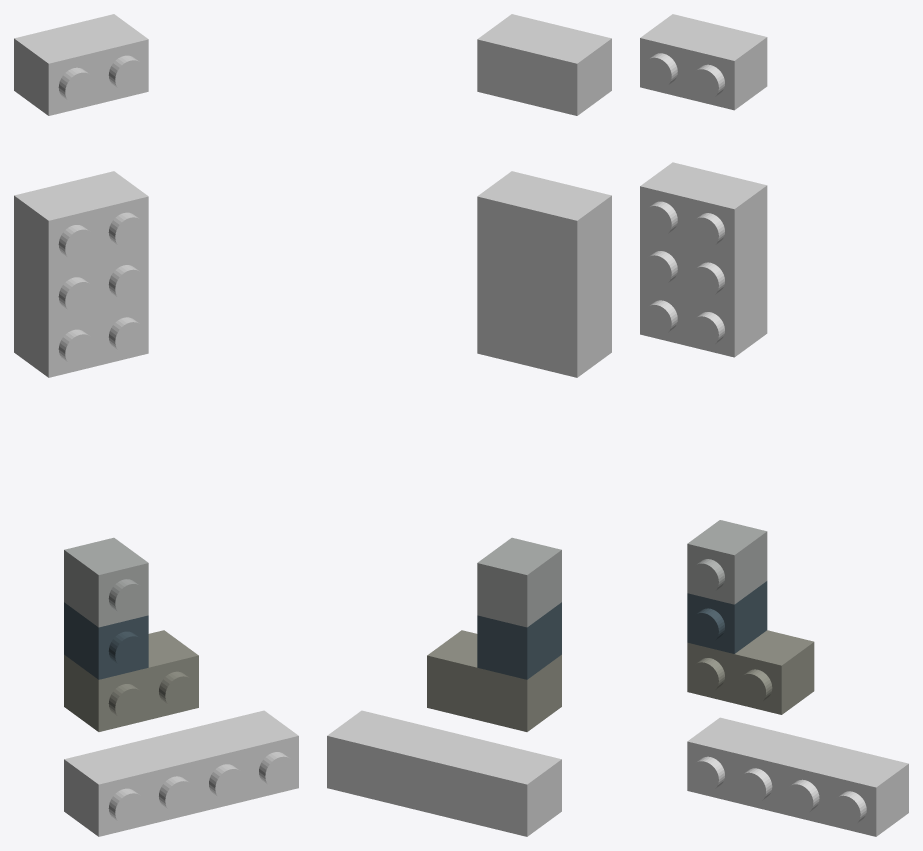
The model's file is current.glb.
The picture shows the model from 3 angles, left to right: view 1: azimuth 30°, elevation 25°; view 2: azimuth 150°, elevation 25°; view 3: azimuth 330°, elevation 25°; orthographic projection. The views are drawn at different scales.
Parts seen in each view (by area): view 1: world; view 2: world; view 3: world.
Boxes of the visible parts, x1,y1,x2,y2 form: world: [14, 14, 298, 836]; world: [327, 14, 611, 836]; world: [640, 14, 908, 836].
Size of the model in its own units: 40 by 120 by 11.4.
